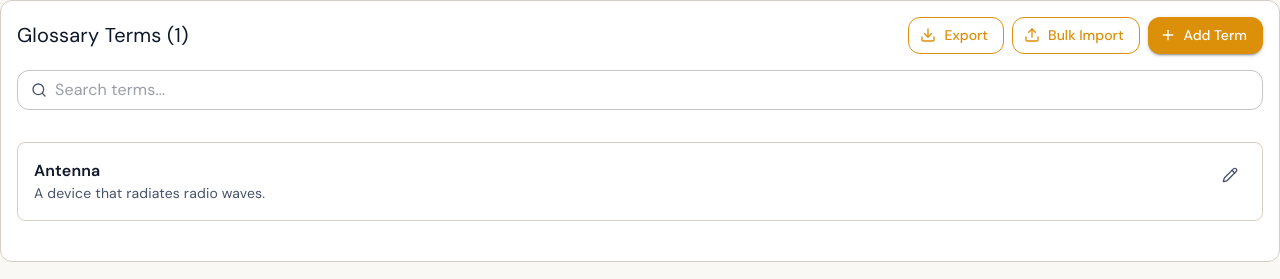
AdminGlossary › list › says so when nothing matches
Expected: the heading "Antenna" is shown, [34,160,100,180]
Type "zzzz" into the field with placeholder "Search terms...".
click(659, 90); type("zzzz")  # box [55,70,1263,110]
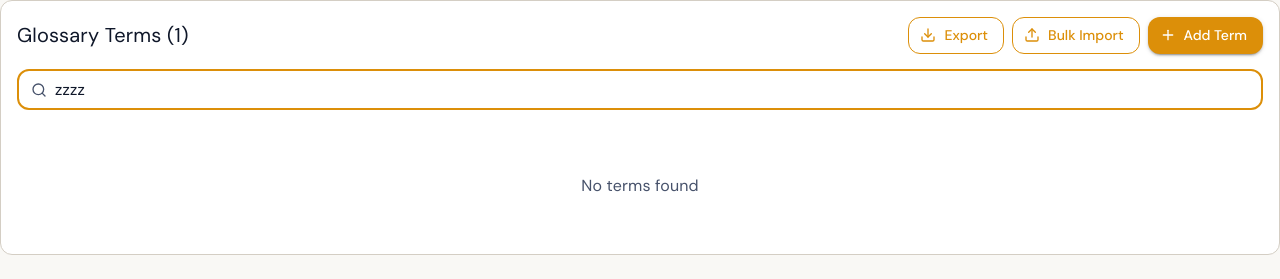
Result: the text "No terms found" is shown at [581,174,699,196]
